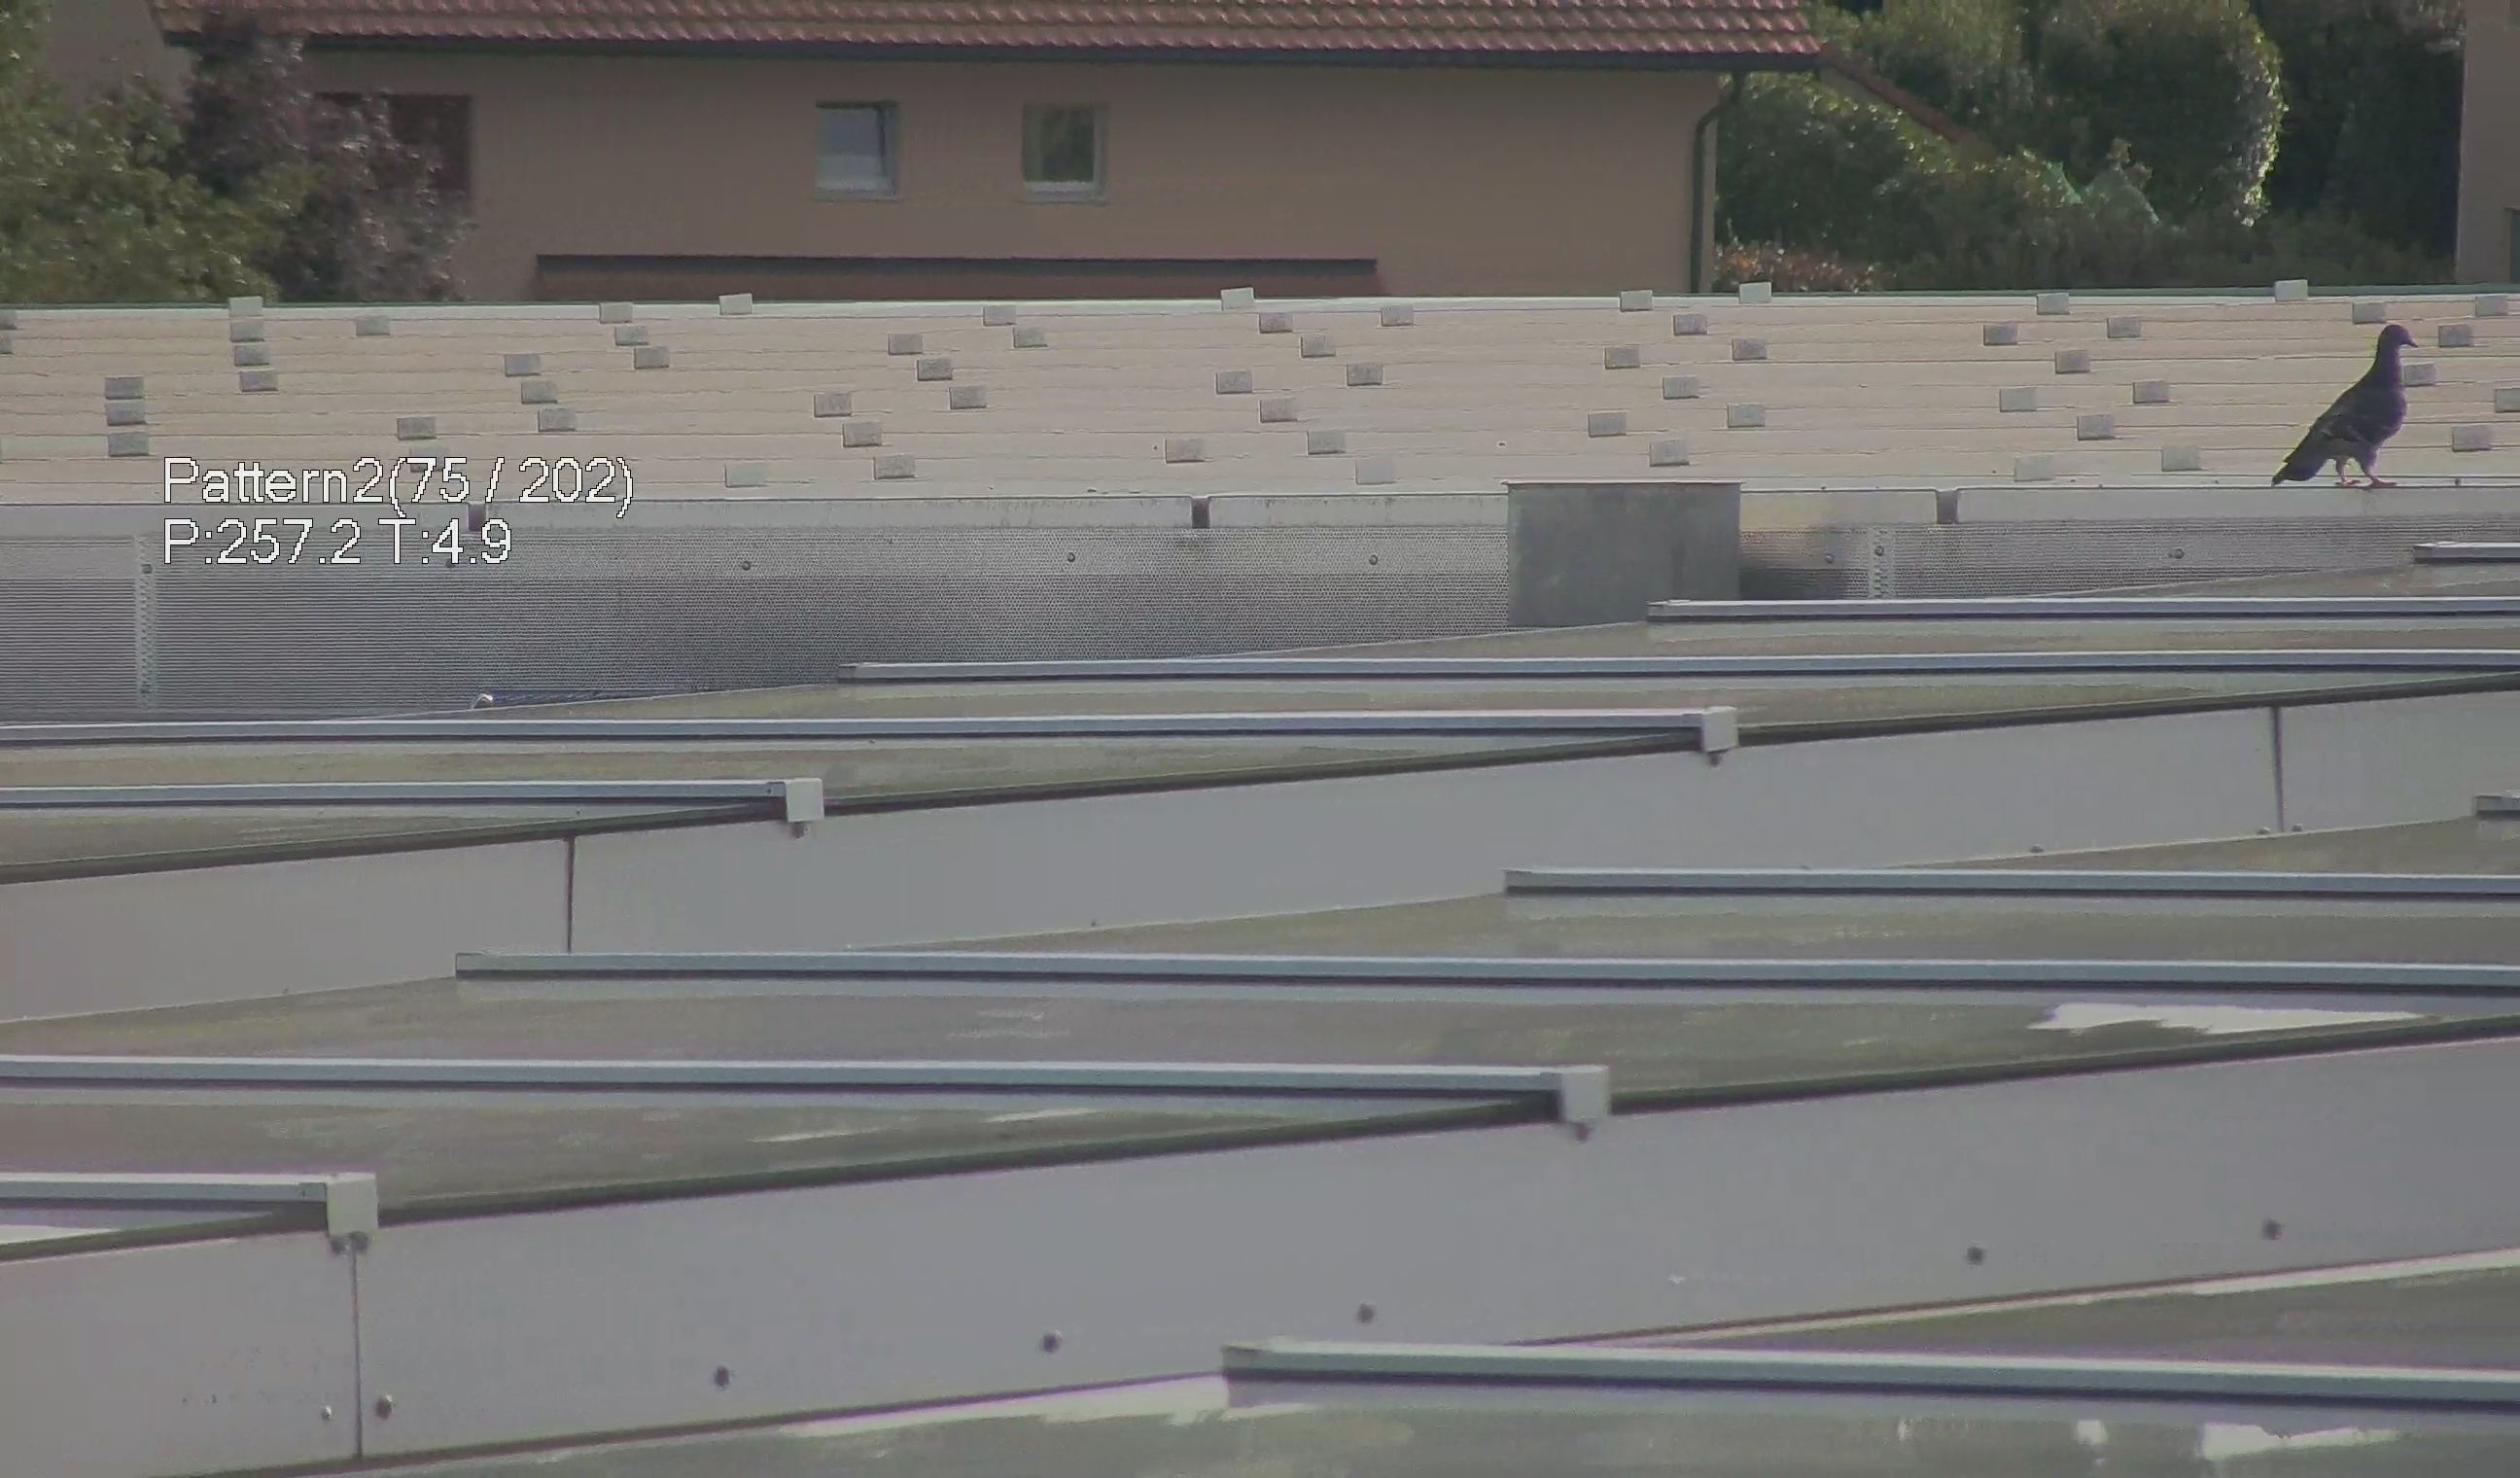Pigeon: (2279, 315, 2464, 493)
